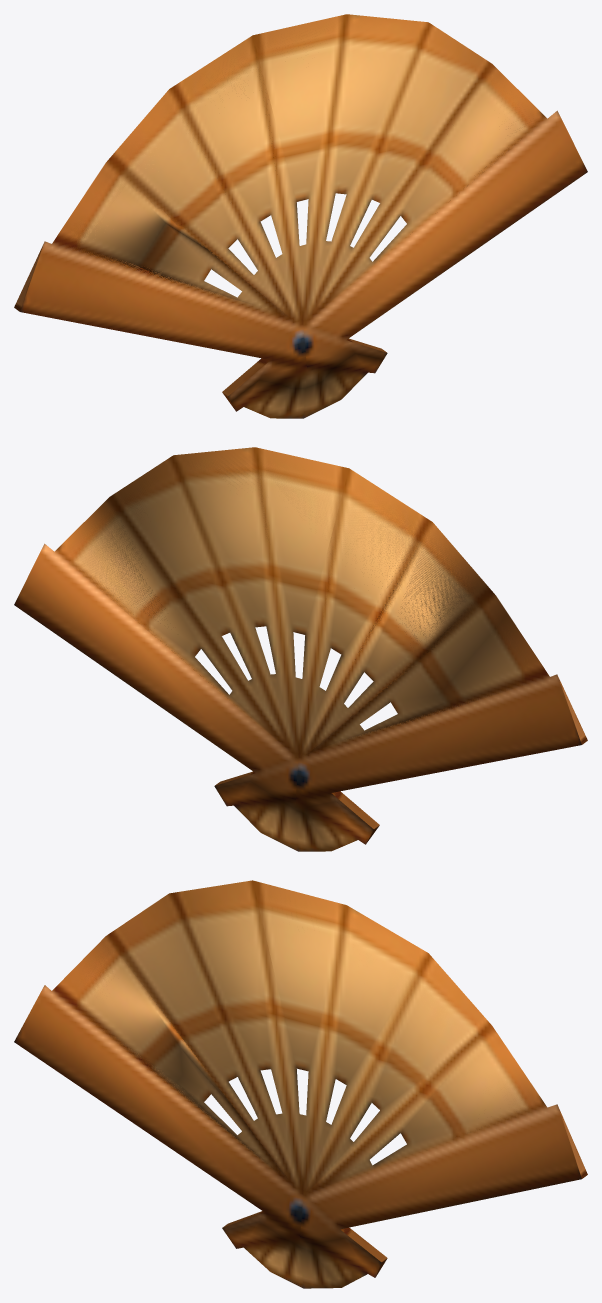
The model's file is weapon_31.FBX.
The picture shows the model from 3 angles, top to bottom: view 1: azimuth 30°, elevation 25°; view 2: azimuth 150°, elevation 25°; view 3: azimuth 330°, elevation 25°; orthographic projection.
Visible parts, largest first — view 1: weapon_31; view 2: weapon_31; view 3: weapon_31.
Boxes of the visible parts, bbox=[...] form: weapon_31: bbox=[14, 14, 587, 418]; weapon_31: bbox=[14, 447, 587, 851]; weapon_31: bbox=[14, 880, 587, 1288].
Size of the model in its own units: 64.81 by 43.17 by 1.28.
